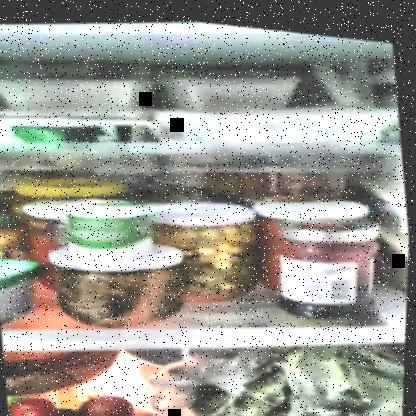cream_cheese: (0, 99, 136, 157)
lettuce: (192, 333, 402, 415)
tomato: (9, 380, 154, 415)
yoghurt: (63, 190, 162, 264)
